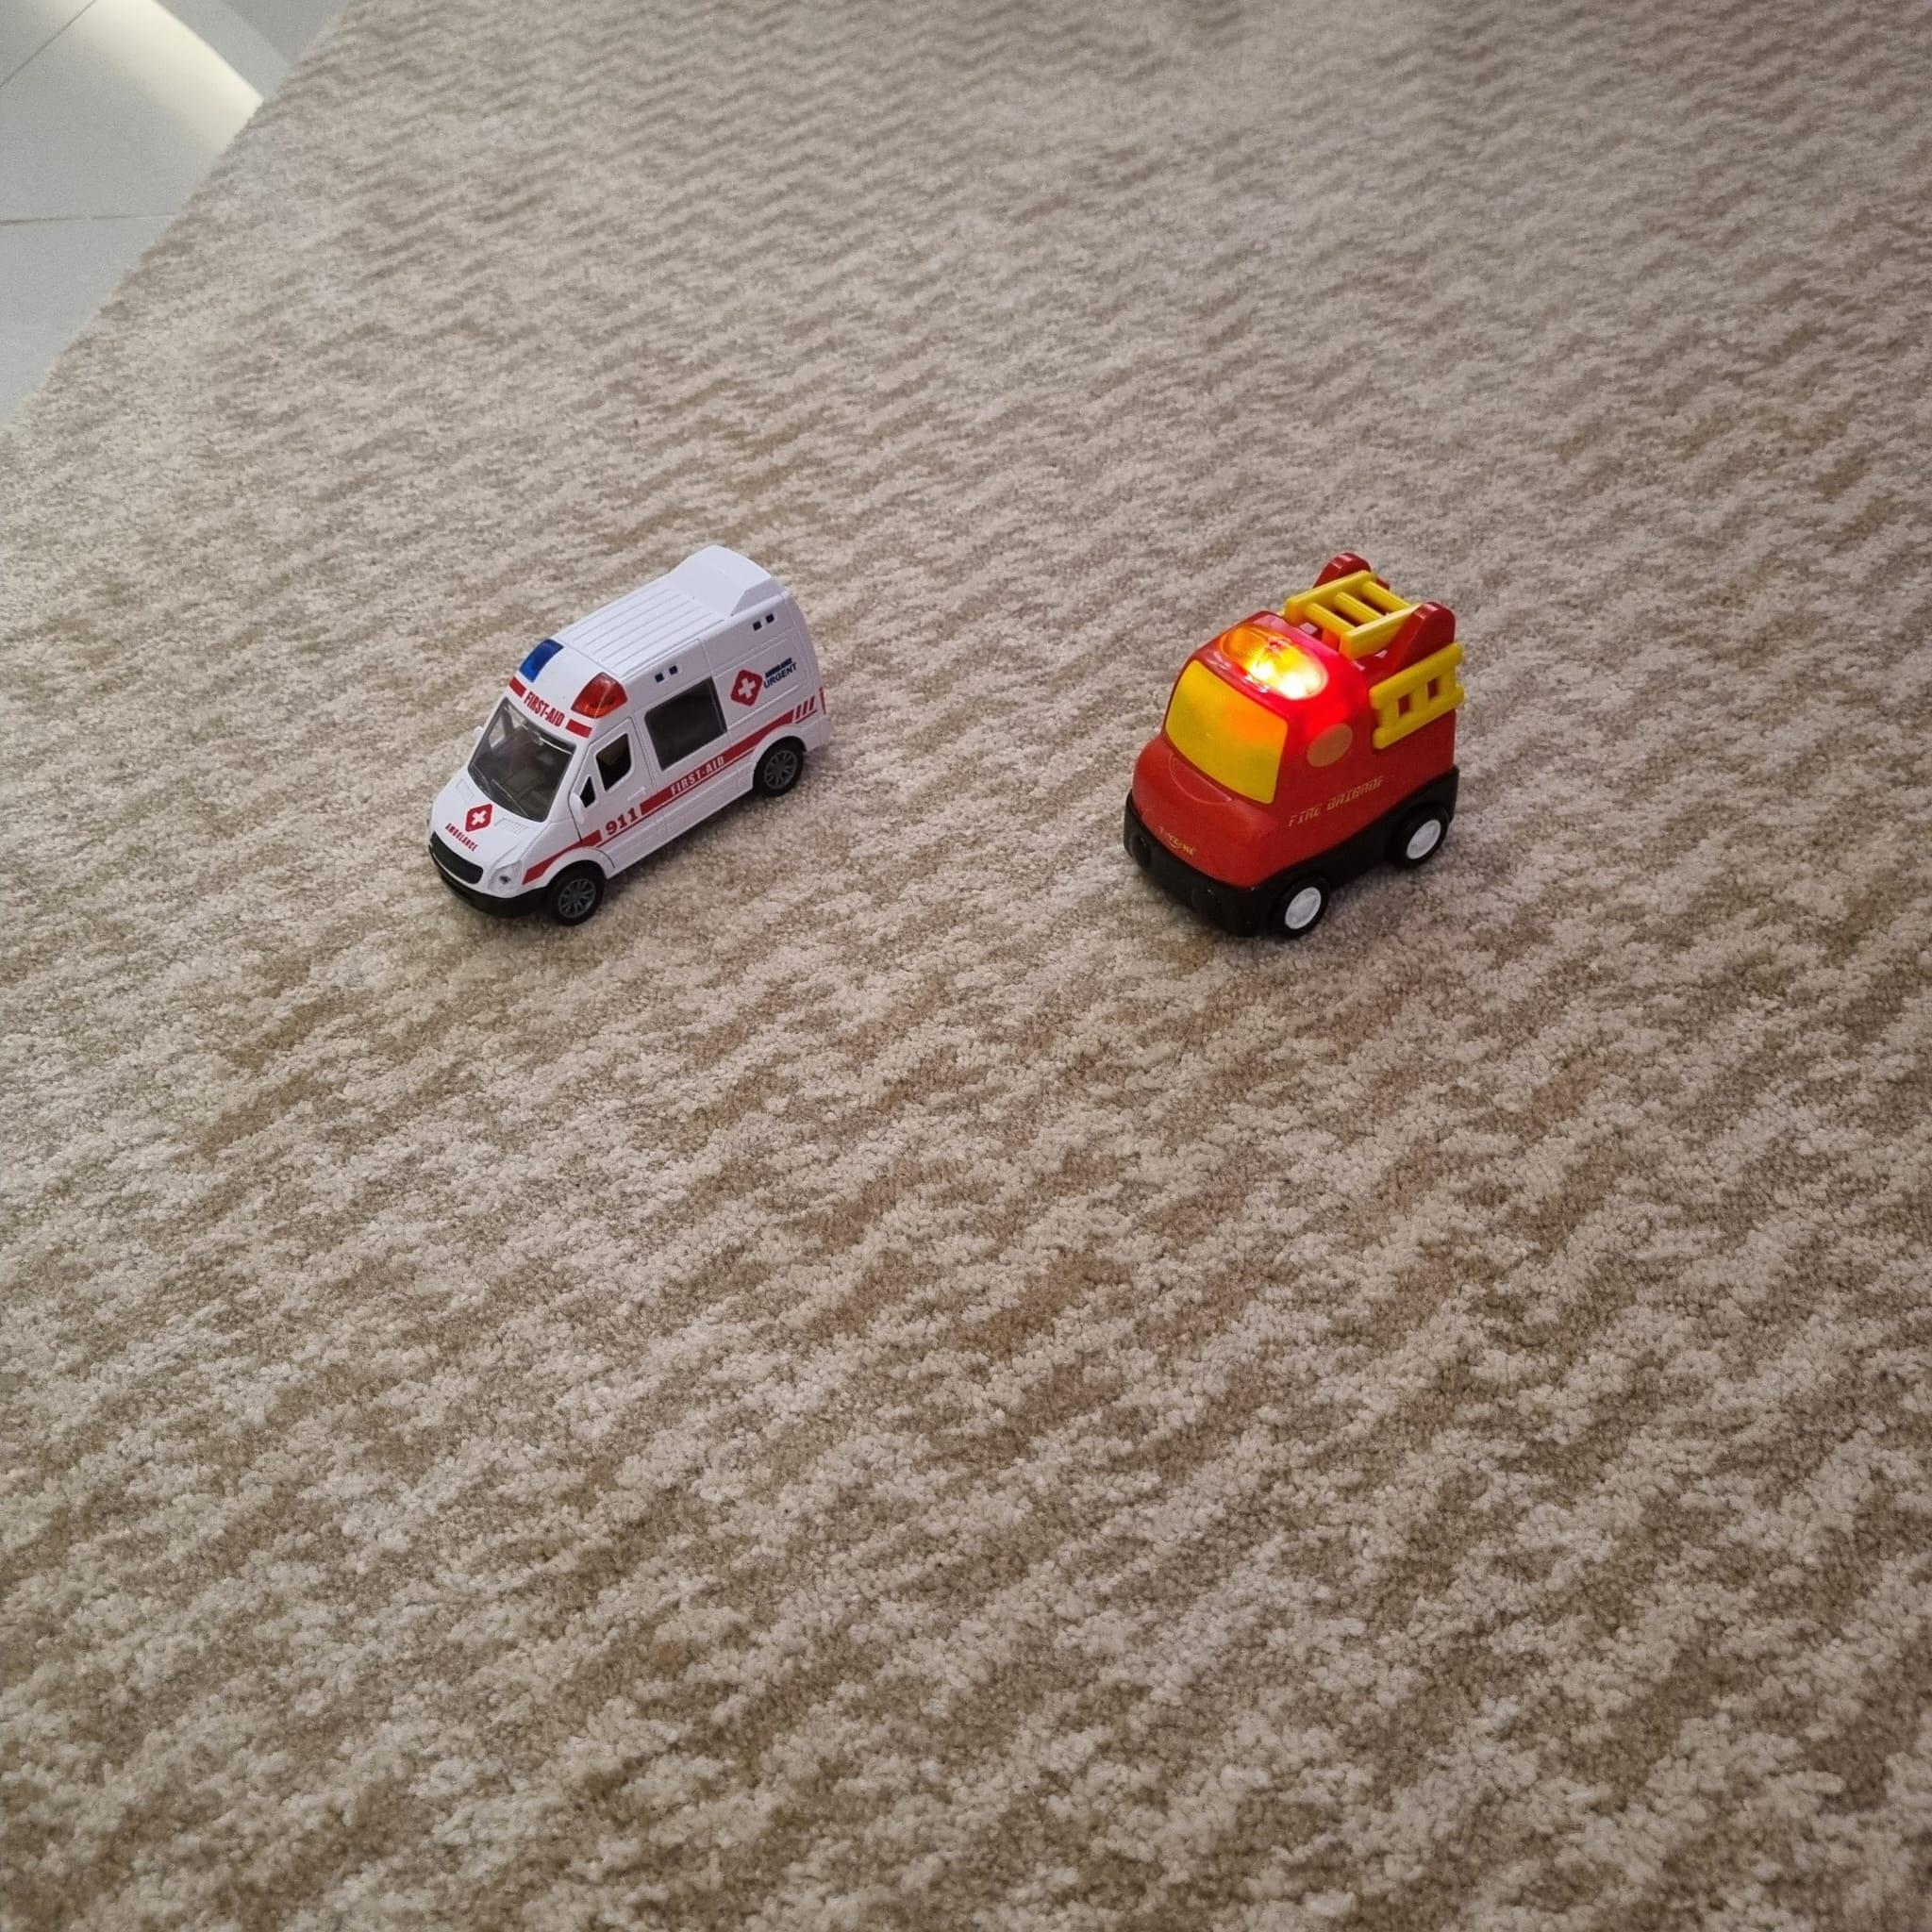ambulance_off: (425, 541, 832, 929)
firetruck_on: (1127, 552, 1456, 938)
